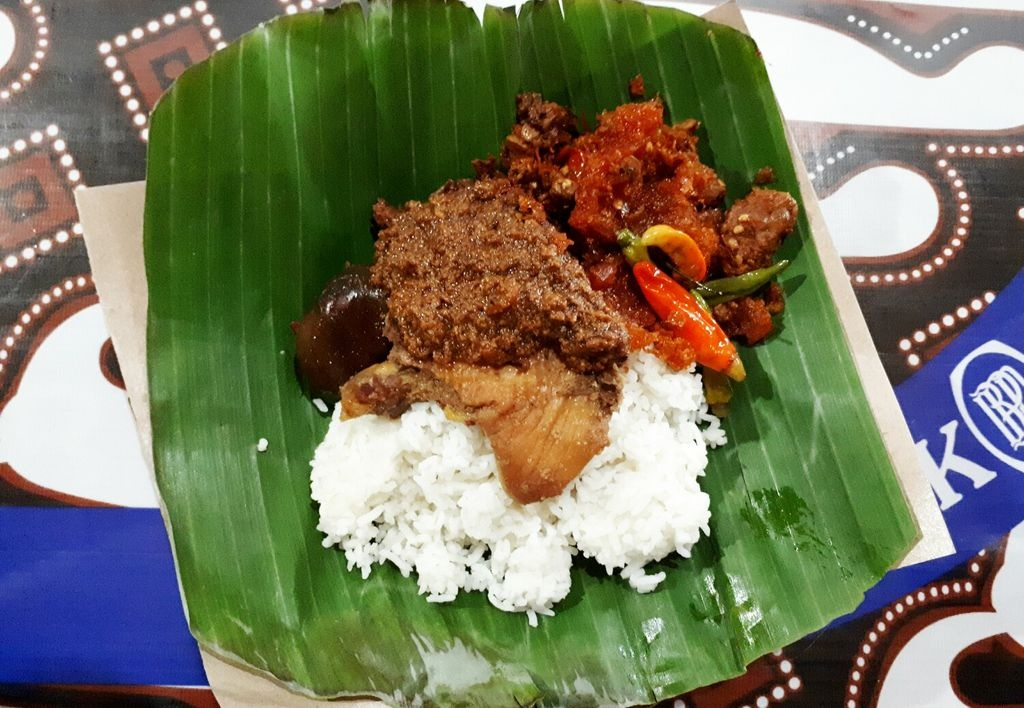gudeg: (295, 103, 801, 613)
